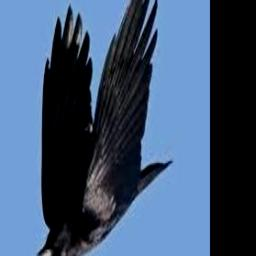Crow: (37, 0, 173, 256)
